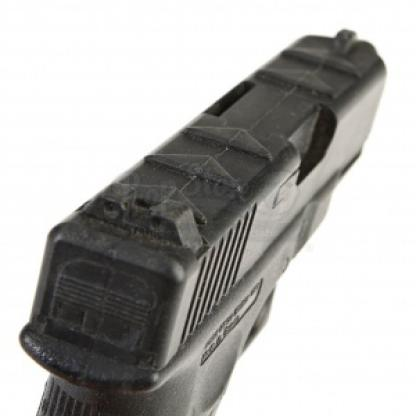Gun: (11, 24, 384, 414)
